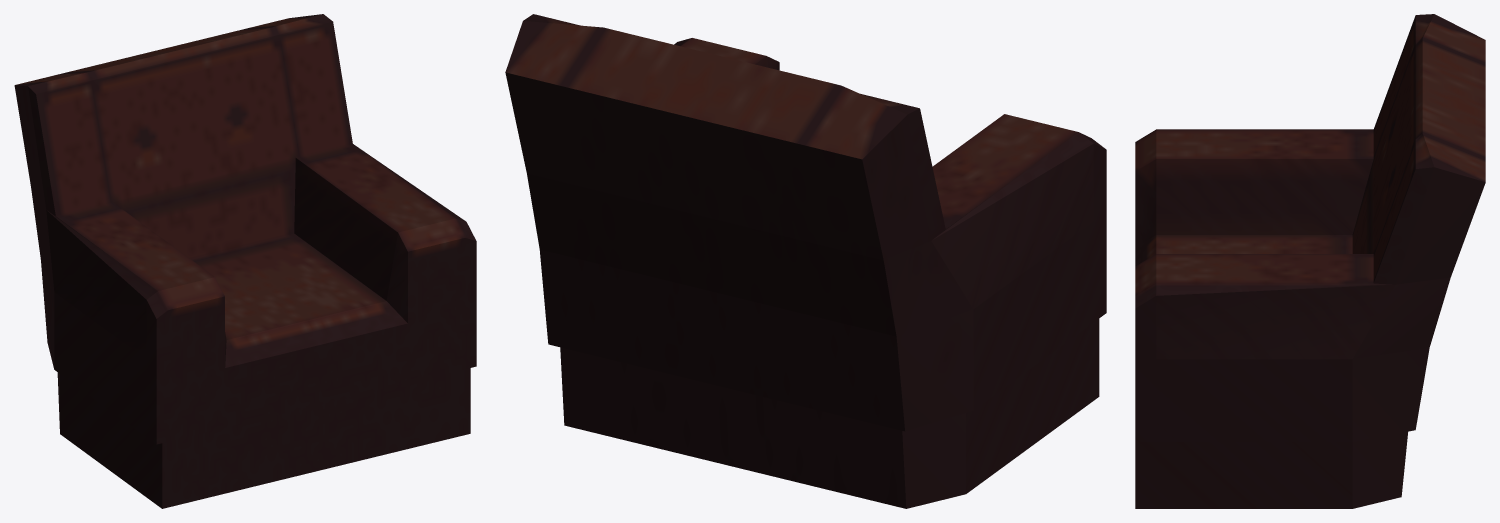
File: SignalisRedArmchair.fbx
3 views of the same model, side by side, from view 1: azimuth 30°, elevation 25°; view 2: azimuth 150°, elevation 25°; view 3: azimuth 270°, elevation 25° (orthographic). The views are drawn at different scales.
Parts seen in each view (by area): view 1: RES_Objects_1_1.001; view 2: RES_Objects_1_1.001; view 3: RES_Objects_1_1.001.
Boxes of the visible parts, <box> form: RES_Objects_1_1.001: <box>14,14,476,508</box>; RES_Objects_1_1.001: <box>505,14,1106,508</box>; RES_Objects_1_1.001: <box>1135,14,1485,508</box>.
Bounding box in the file's own units: 100 × 89.29 × 96.43.
